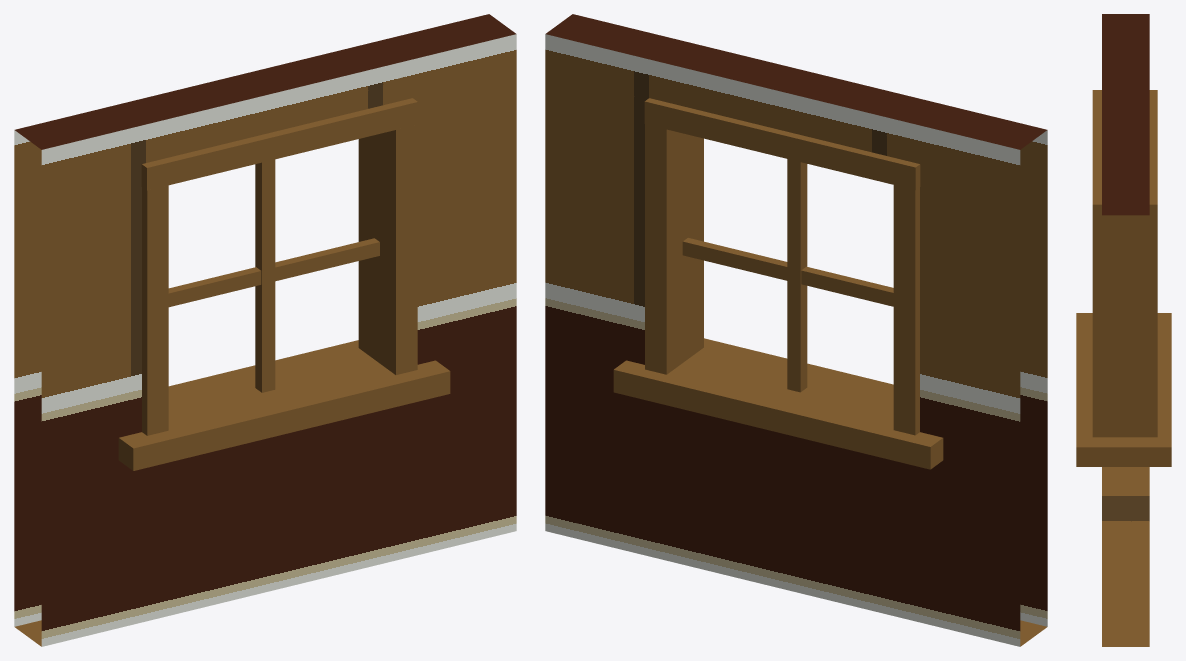
File: wall_panel_window.fbx
3 renders of one model, left to right at view 1: azimuth 30°, elevation 25°; view 2: azimuth 150°, elevation 25°; view 3: azimuth 270°, elevation 25°, orthographic. The views are drawn at different scales.
Parts seen in each view (by area): view 1: Cube.004; view 2: Cube.004; view 3: Cube.004.
Boxes of the visible parts, x1,y1,x2,y2 form: Cube.004: (14, 14, 516, 646); Cube.004: (545, 14, 1047, 646); Cube.004: (1076, 14, 1171, 646).
Bounding box in the file's own units: 1000 × 200 × 1000.
